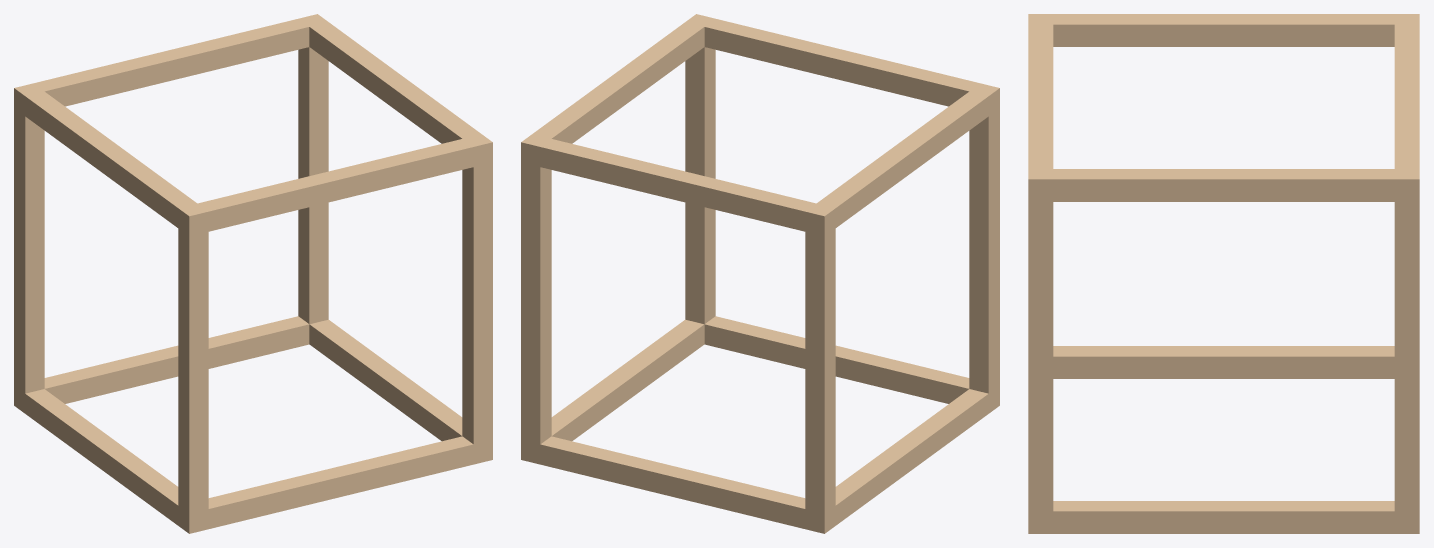
Rendered from Caja.obj.
3 views of the same model, side by side, from view 1: azimuth 30°, elevation 25°; view 2: azimuth 150°, elevation 25°; view 3: azimuth 270°, elevation 25° (orthographic). The views are drawn at different scales.
Parts seen in each view (by area): view 1: mesh12, mesh25, mesh14, mesh26, mesh5, mesh0, mesh18, mesh9, mesh10, mesh4, mesh17, mesh19 (+3 smaller); view 2: mesh20, mesh25, mesh14, mesh24, mesh6, mesh2, mesh15, mesh19, mesh22, mesh4, mesh17, mesh9 (+3 smaller); view 3: mesh13, mesh14, mesh7, mesh23, mesh3, mesh28.
Boxes of the visible parts, box(x1,y1,x2,y2) form: mesh12: box(189, 142, 492, 533); mesh25: box(14, 88, 189, 533); mesh14: box(14, 14, 492, 216); mesh26: box(25, 116, 44, 393); mesh5: box(45, 27, 309, 106); mesh0: box(309, 47, 328, 324); mesh18: box(45, 324, 309, 403); mesh9: box(462, 167, 473, 443); mesh10: box(208, 436, 473, 508); mesh4: box(309, 27, 461, 143); mesh17: box(309, 324, 461, 441); mesh19: box(298, 47, 309, 323); mesh20: box(521, 142, 824, 533); mesh25: box(824, 88, 999, 533); mesh14: box(521, 14, 999, 216); mesh24: box(969, 116, 988, 393); mesh6: box(704, 27, 968, 106); mesh2: box(685, 47, 704, 324); mesh15: box(704, 324, 968, 403); mesh19: box(540, 167, 551, 443); mesh22: box(540, 436, 805, 508); mesh4: box(552, 27, 704, 143); mesh17: box(552, 324, 704, 441); mesh9: box(704, 47, 715, 323); mesh13: box(1028, 179, 1419, 533); mesh14: box(1028, 14, 1419, 179); mesh7: box(1053, 24, 1394, 46); mesh23: box(1053, 356, 1394, 378); mesh3: box(1053, 501, 1394, 511); mesh28: box(1053, 346, 1394, 356).
Size of the model in its own units: 1 by 1 by 1.
